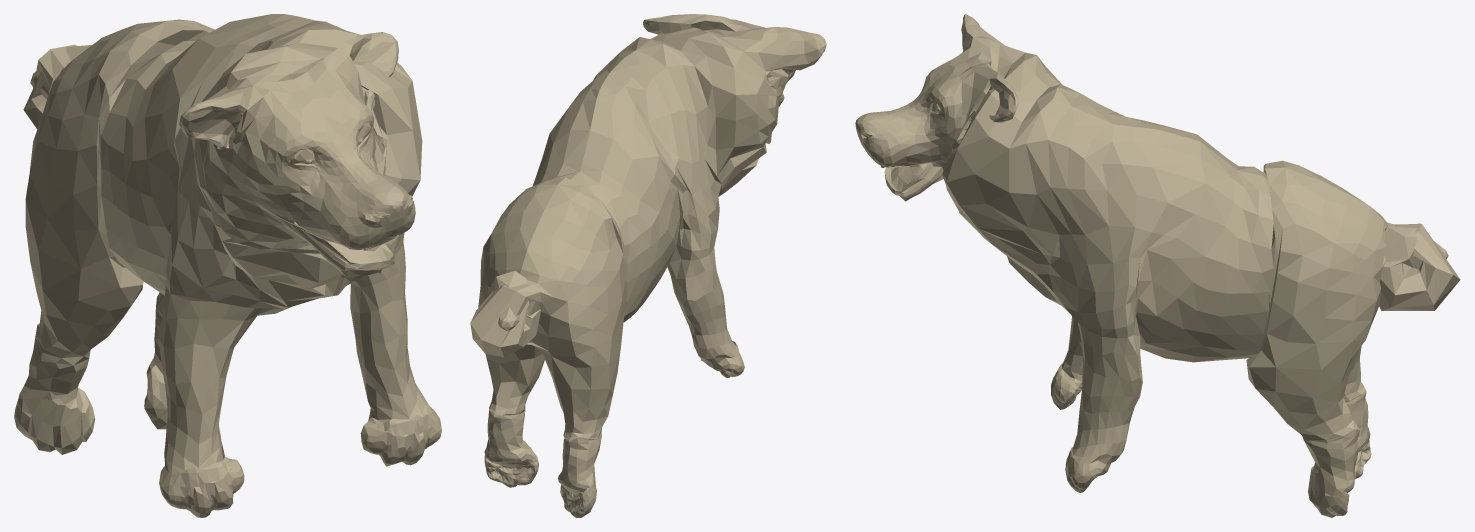
3 renders of one model, left to right at view 1: azimuth 30°, elevation 25°; view 2: azimuth 150°, elevation 25°; view 3: azimuth 270°, elevation 25°, orthographic. The views are drawn at different scales.
Visible parts, largest first — view 1: world; view 2: world; view 3: world.
Part boxes in pixels (bbox=[...]): world: bbox=[14, 14, 441, 517]; world: bbox=[470, 14, 826, 517]; world: bbox=[855, 14, 1460, 517].
Bounding box in the file's own units: 0.5381 × 0.872 × 1.11.
